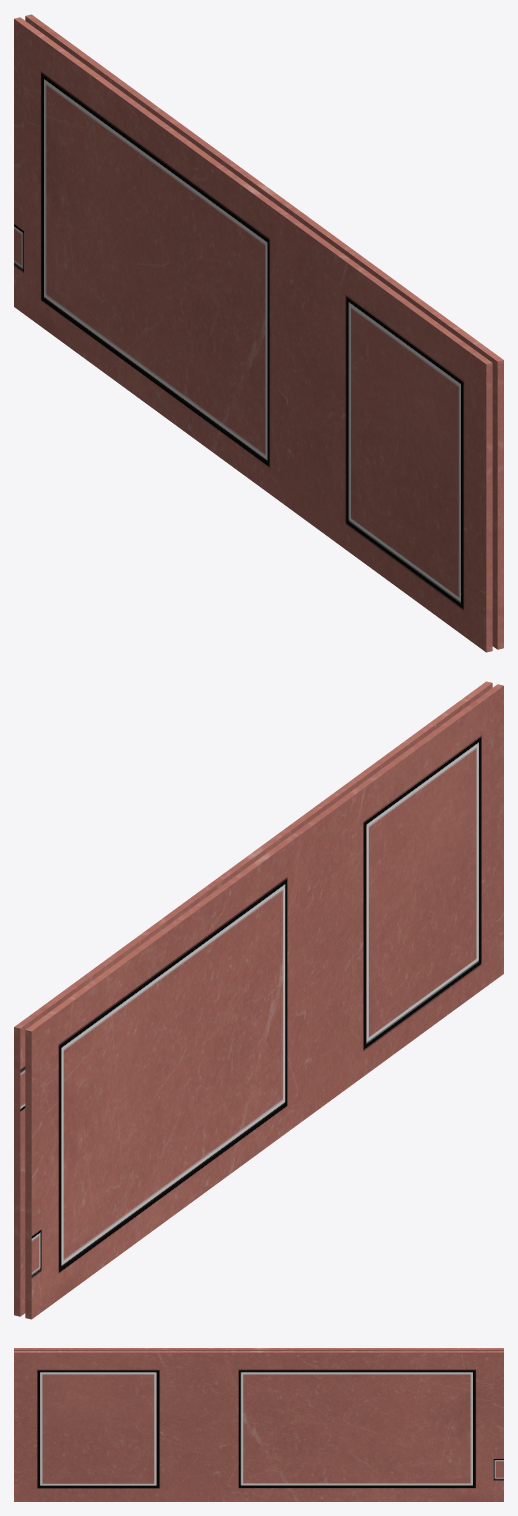
File: SM_SJJ_HG_Wall04E.fbx
3 renders of one model, top to bottom at view 1: azimuth 30°, elevation 25°; view 2: azimuth 150°, elevation 25°; view 3: azimuth 270°, elevation 25°, orthographic. The views are drawn at different scales.
Visible parts, largest first — view 1: SM_SJJ_HG_Wall04E; view 2: SM_SJJ_HG_Wall04E; view 3: SM_SJJ_HG_Wall04E.
Boxes of the visible parts, x1,y1,x2,y2 form: SM_SJJ_HG_Wall04E: [14, 14, 503, 652]; SM_SJJ_HG_Wall04E: [14, 681, 503, 1319]; SM_SJJ_HG_Wall04E: [14, 1348, 503, 1501].
Size of the model in its own units: 5.69 by 264 by 88.69.
1 material, 1 textured.
